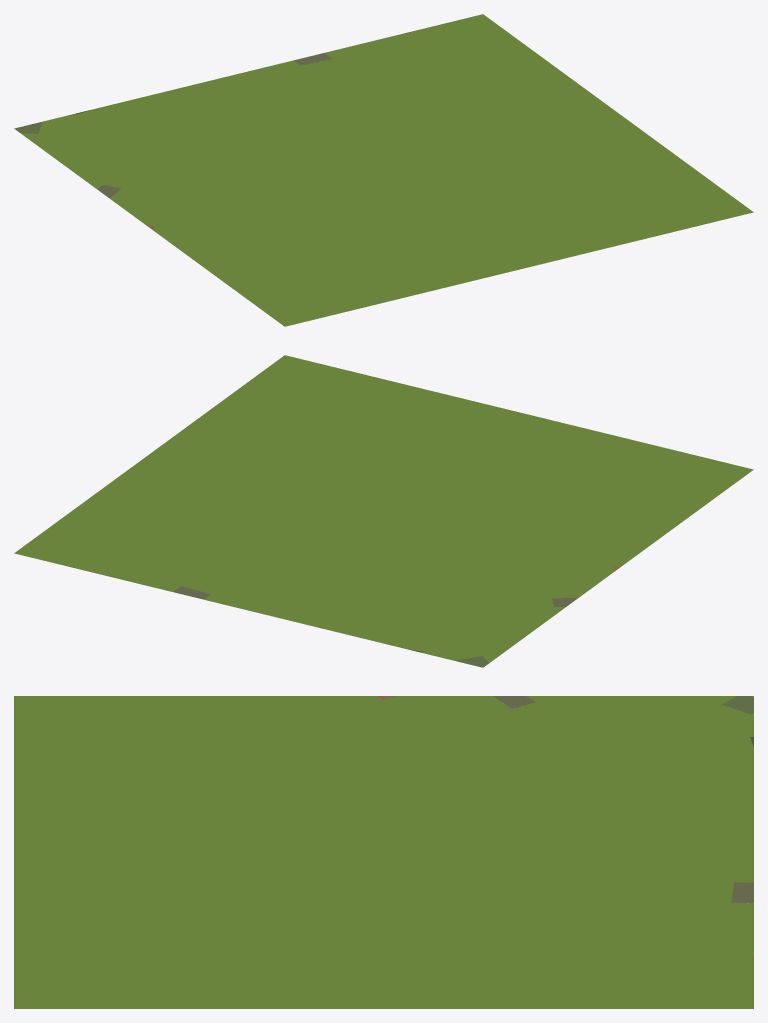
File: cure-31-2.glb
3 renders of one model, top to bottom at view 1: azimuth 30°, elevation 25°; view 2: azimuth 150°, elevation 25°; view 3: azimuth 270°, elevation 25°, orthographic. The views are drawn at different scales.
Parts seen in each view (by area): view 1: cure-31-2; view 2: cure-31-2; view 3: cure-31-2.
Part boxes in pixels (x1,y1,x2,y2): cure-31-2: (14,14,753,326); cure-31-2: (14,355,753,667); cure-31-2: (14,696,753,1008).
Bounding box in the file's own units: 100 × 0.003 × 100.
